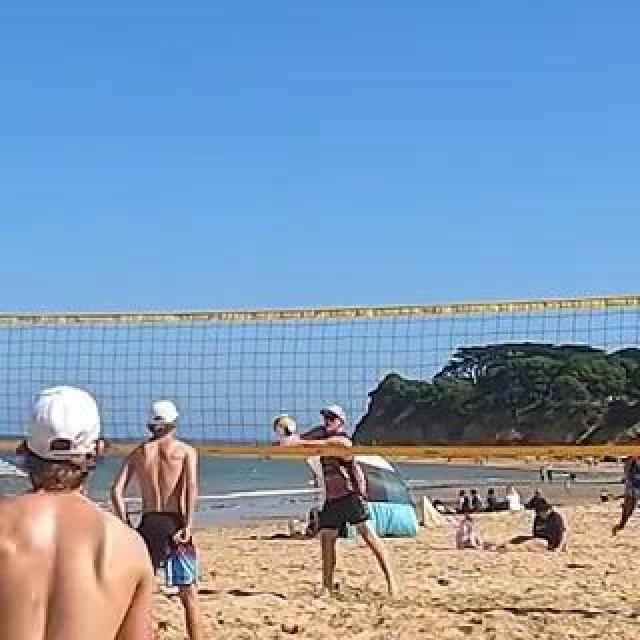volleyball: (271, 415, 295, 441)
